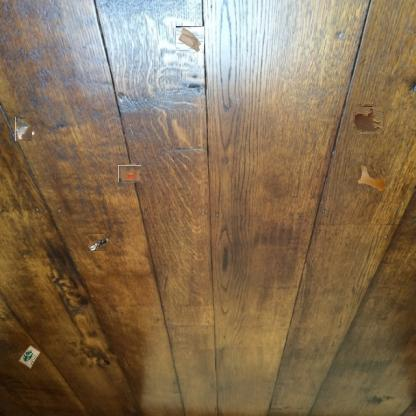dirty: (176, 25, 204, 53), (18, 344, 40, 368), (119, 163, 140, 184), (14, 119, 34, 140), (87, 233, 109, 252)
liquid: (354, 105, 382, 133), (357, 165, 385, 191)
